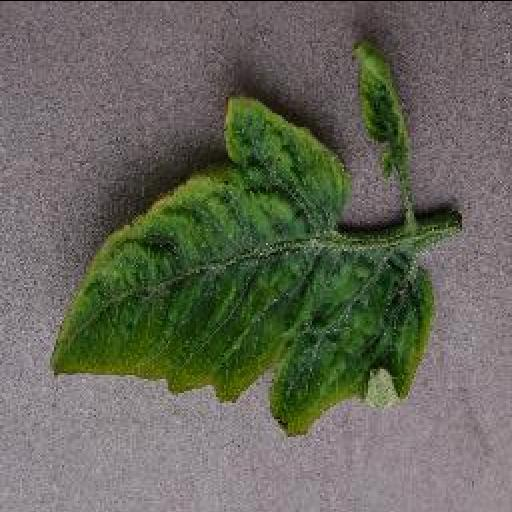disease_tomato: (48, 90, 434, 436), (350, 33, 412, 175)
